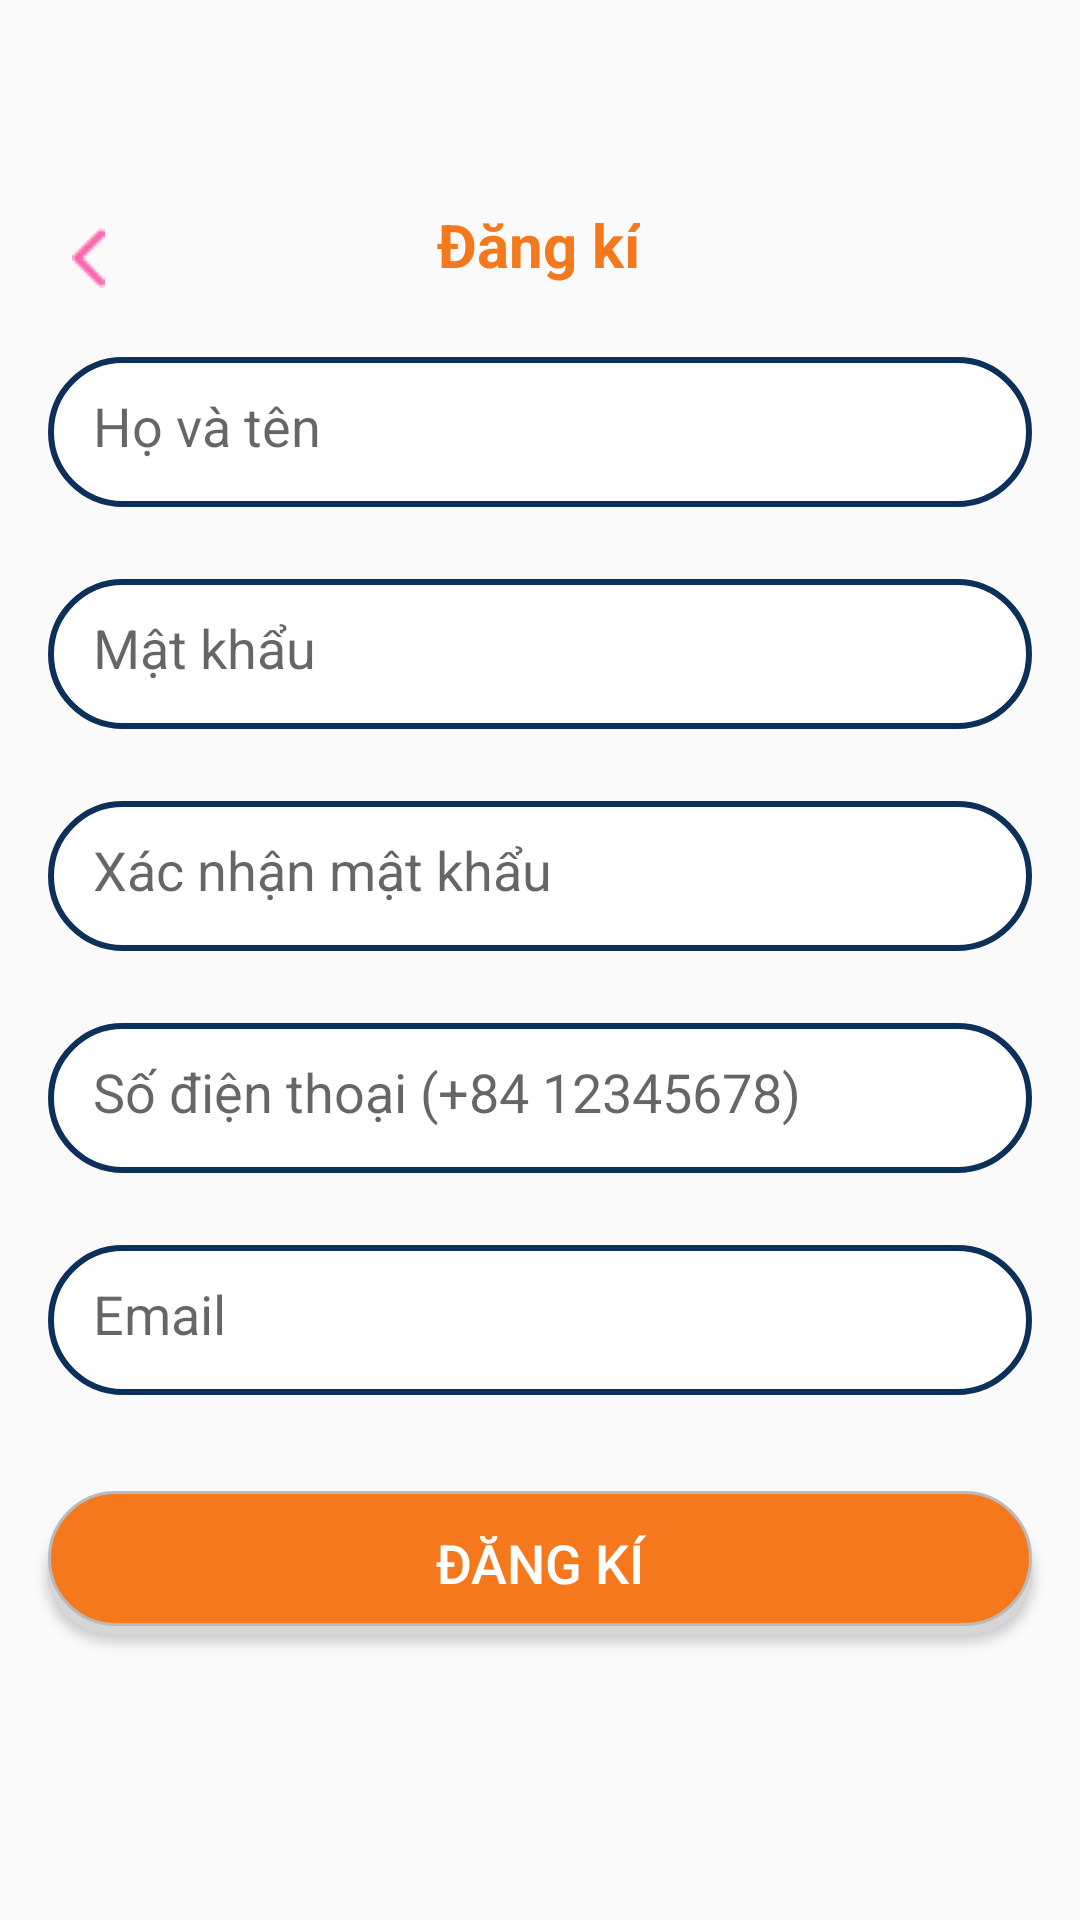

Locate icon controls on the screen. Image size 1080w x 1920h, boxes as rect(x1, y1, x2, y2).
back: rect(72, 228, 105, 288)
